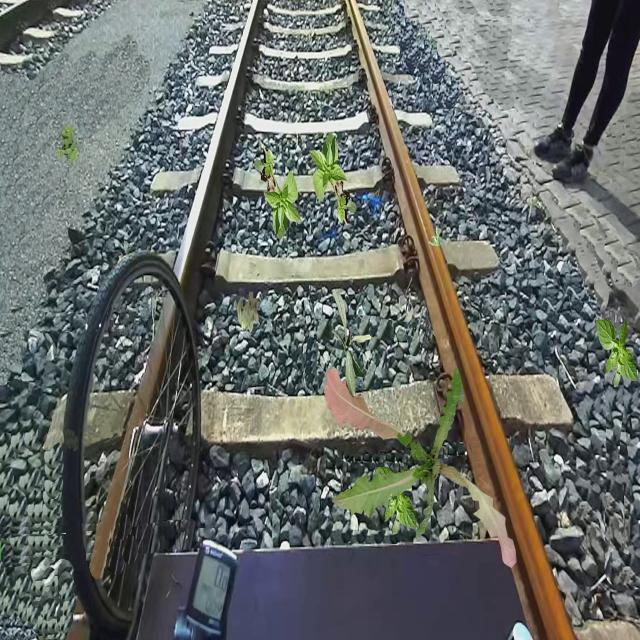Plant: (324, 366, 516, 568), (309, 132, 357, 227), (254, 146, 302, 241), (332, 288, 372, 398), (375, 464, 417, 535), (596, 317, 638, 388), (234, 291, 260, 334), (56, 125, 80, 166), (429, 226, 443, 246)
